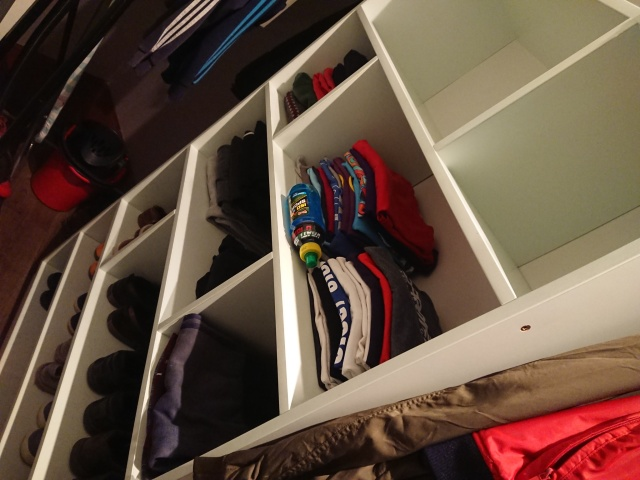Vindi Iso Sport Forest Strawberries 500mL: (285, 181, 325, 268)
